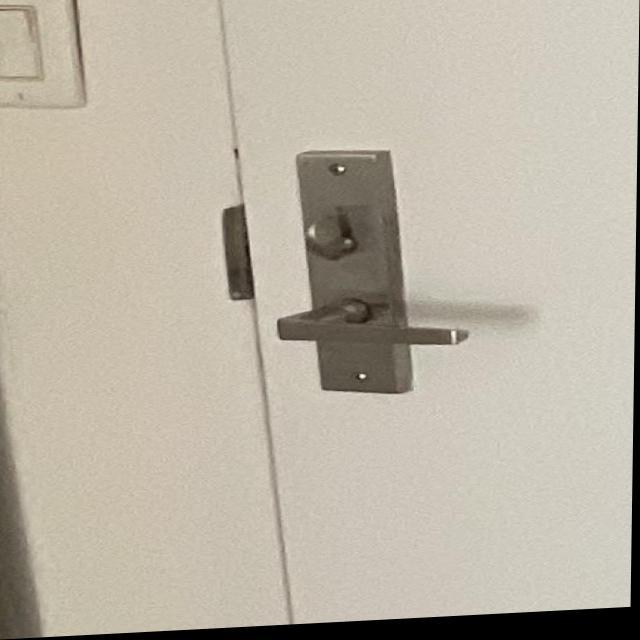door_handle: (256, 287, 496, 370)
